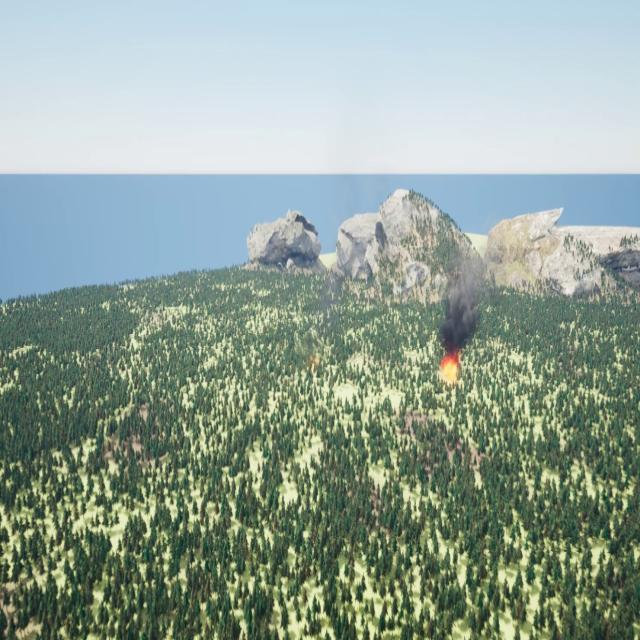fire: (441, 353, 462, 380)
smoke: (442, 251, 485, 349)
